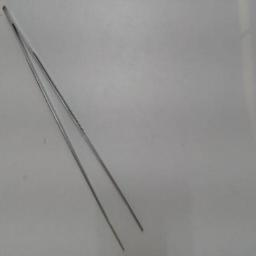DeBakey Dissector: (0, 2, 160, 252)
